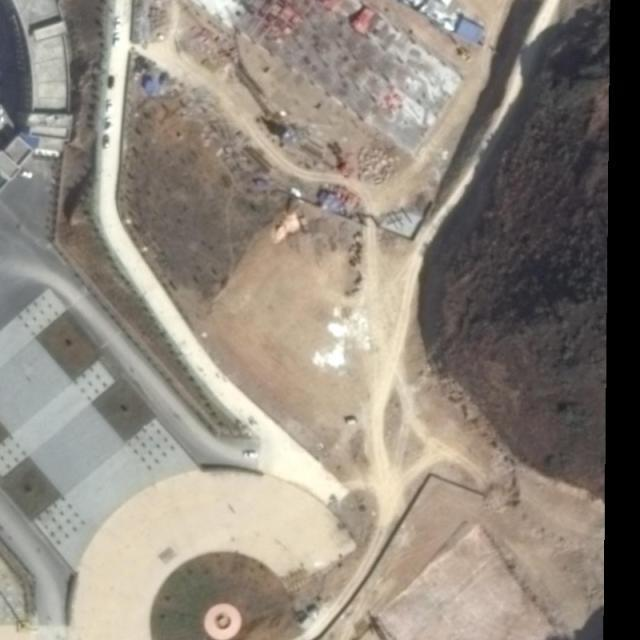vehicle: (18, 169, 35, 181), (102, 135, 111, 152), (114, 13, 122, 31), (114, 34, 122, 50), (241, 451, 258, 458), (106, 101, 114, 115), (110, 76, 117, 90), (106, 118, 112, 131), (1, 116, 6, 125), (1, 106, 5, 115), (1, 50, 3, 60), (1, 68, 3, 76), (1, 60, 2, 66)
